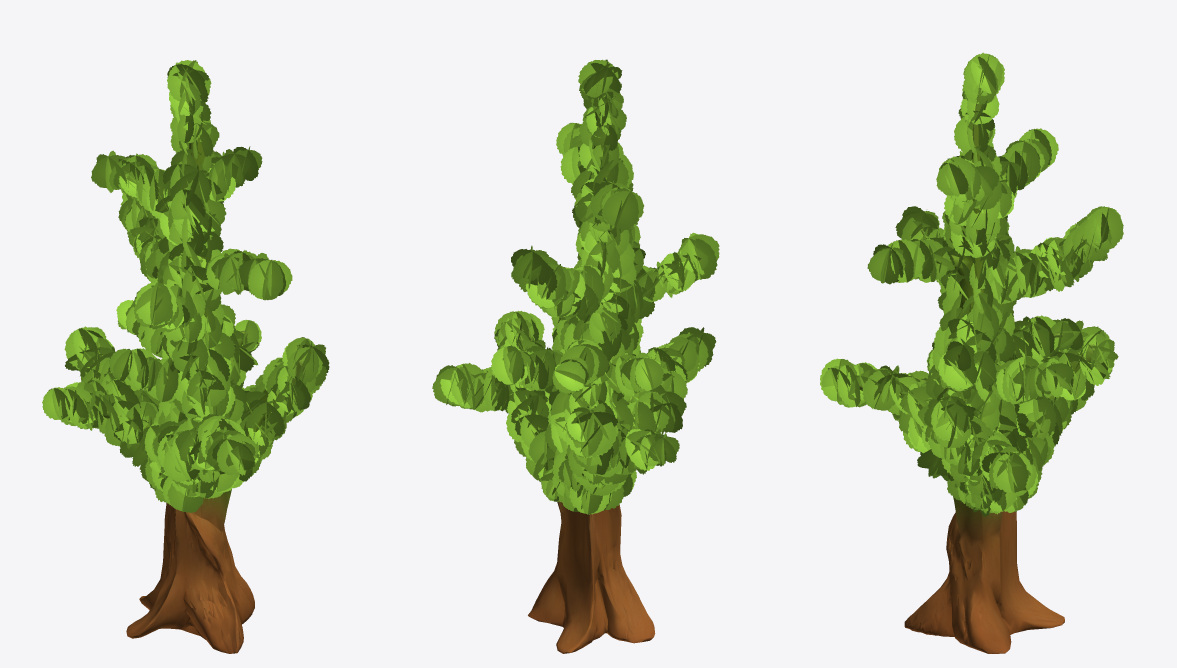
Rendered from tamarisk.glb.
3 renders of one model, left to right at view 1: azimuth 30°, elevation 25°; view 2: azimuth 150°, elevation 25°; view 3: azimuth 270°, elevation 25°, orthographic.
Visible parts, largest first — view 1: tamarisk.001; view 2: tamarisk.001; view 3: tamarisk.001.
Boxes of the visible parts, x1,y1,x2,y2 form: tamarisk.001: (42, 60, 329, 653); tamarisk.001: (432, 59, 719, 653); tamarisk.001: (820, 52, 1123, 653).
Bounding box in the file's own units: 0.8441 × 1.54 × 0.8543.
2 materials, 2 textured.
